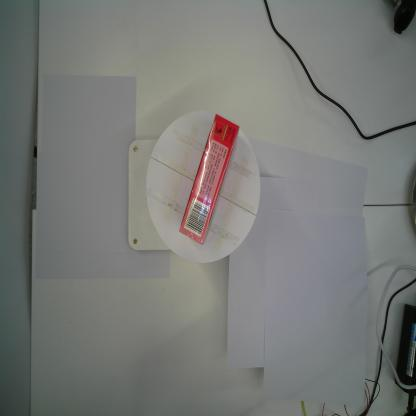Instant Drink: (178, 114, 240, 246)
